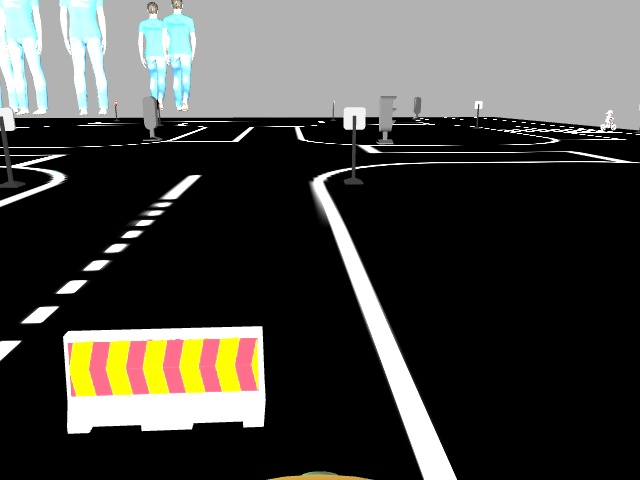ClosedRoadStand: (63, 333, 265, 420)
